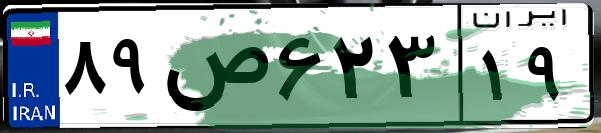1: (475, 38, 525, 113)
2: (330, 28, 385, 110)
3: (385, 28, 445, 110)
6: (270, 28, 330, 110)
8: (57, 26, 110, 100)
9: (525, 38, 570, 115), (110, 28, 158, 98)
ص: (158, 20, 270, 120)
